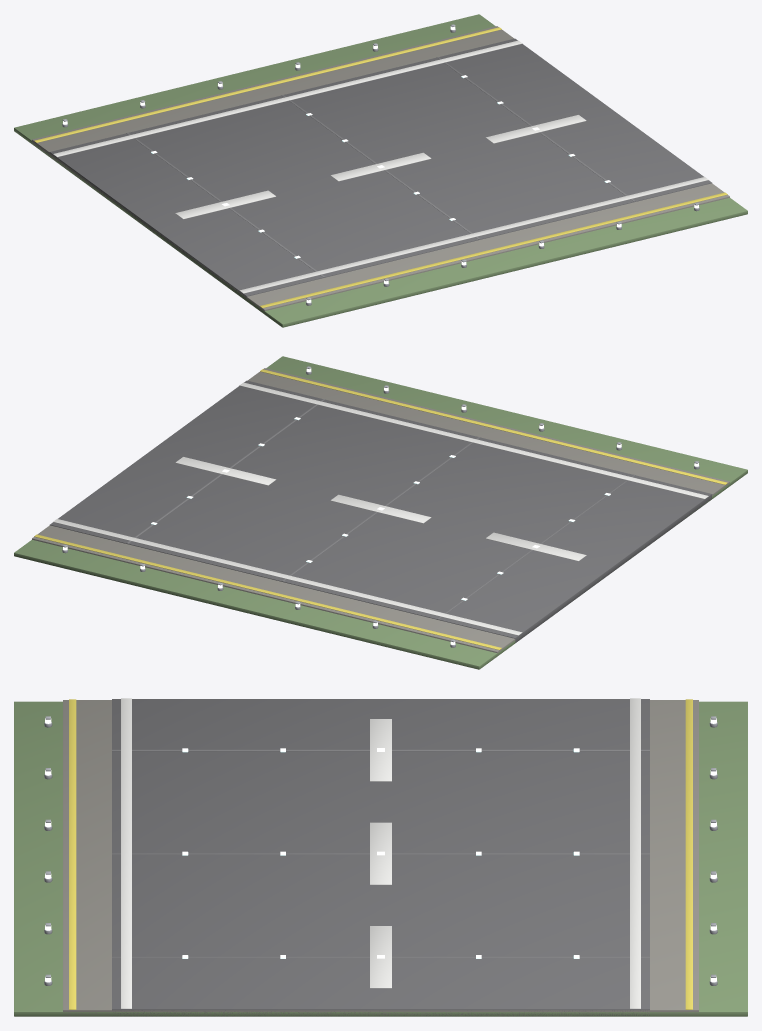
The model's file is th25_landebahn_modul.glb.
3 renders of one model, top to bottom at view 1: azimuth 30°, elevation 25°; view 2: azimuth 150°, elevation 25°; view 3: azimuth 270°, elevation 25°, orthographic. The views are drawn at different scales.
Visible parts, largest first — view 1: Cube.002, Cube, Cube.001, Cube.009, Cube.010, Cube.011, Cube.012, Cube.008, Cube.006, Cube.007; view 2: Cube.002, Cube, Cube.001, Cube.010, Cube.009, Cube.011, Cube.012, Cube.008, Cube.006, Cube.007; view 3: Cube.002, Cube, Cube.001, Cube.009, Cube.010, Cube.011, Cube.012, Cube.003, Cube.007, Cube.008, Cube.006, Cube.004 (+1 smaller).
Boxes of the visible parts, box(x1,y1,x2,y2) form: Cube.002: box(49, 38, 711, 300); Cube: box(14, 14, 747, 327); Cube.001: box(32, 26, 729, 311); Cube.009: box(239, 177, 708, 293); Cube.010: box(53, 40, 522, 157); Cube.011: box(260, 192, 727, 308); Cube.012: box(34, 27, 501, 142); Cube.008: box(485, 115, 586, 143); Cube.006: box(175, 190, 275, 219); Cube.007: box(330, 152, 431, 181); Cube.002: box(50, 380, 712, 642); Cube: box(14, 356, 747, 669); Cube.001: box(32, 368, 729, 653); Cube.010: box(53, 519, 522, 635); Cube.009: box(239, 382, 708, 499); Cube.011: box(260, 369, 727, 484); Cube.012: box(34, 534, 501, 650); Cube.008: box(175, 457, 276, 485); Cube.006: box(486, 532, 586, 561); Cube.007: box(330, 494, 431, 523); Cube.002: box(112, 699, 649, 1016); Cube: box(14, 701, 747, 1016); Cube.001: box(63, 700, 698, 1016); Cube.009: box(121, 698, 131, 1008); Cube.010: box(630, 698, 640, 1008); Cube.011: box(69, 699, 76, 1009); Cube.012: box(685, 699, 692, 1009); Cube.003: box(112, 749, 649, 751); Cube.007: box(370, 822, 391, 884); Cube.008: box(370, 926, 391, 988); Cube.006: box(370, 719, 391, 781); Cube.004: box(112, 853, 649, 854).
Size of the model in its own units: 30 by 0.68 by 30.
